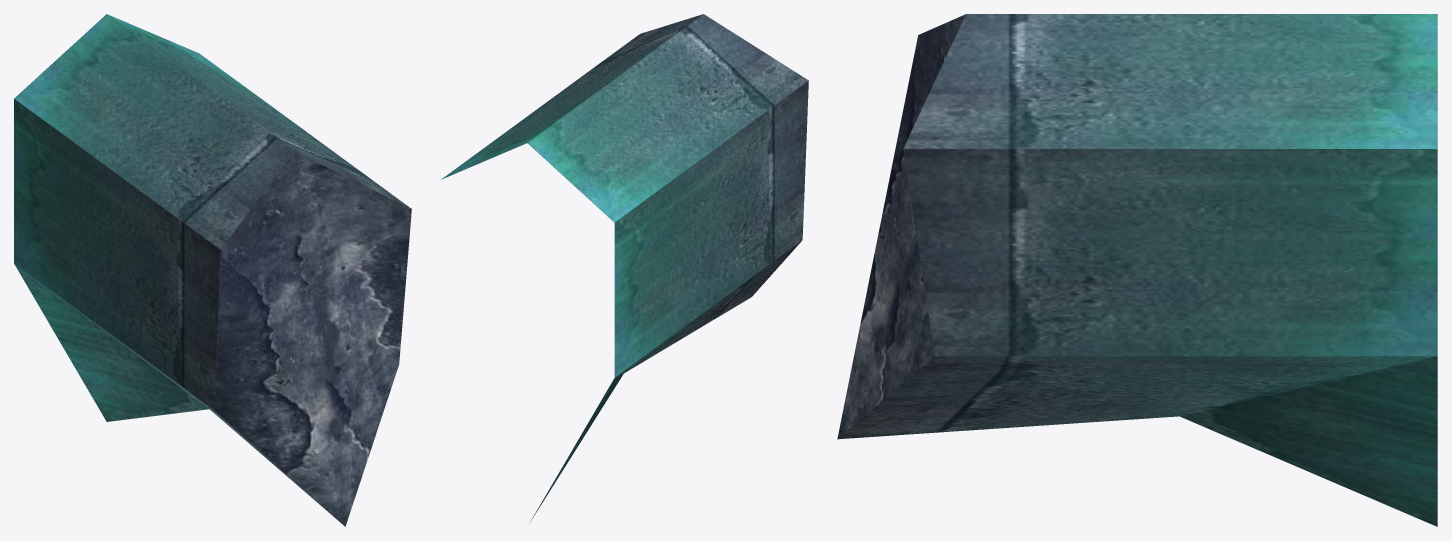
3 views of the same model, side by side, from view 1: azimuth 30°, elevation 25°; view 2: azimuth 150°, elevation 25°; view 3: azimuth 270°, elevation 25° (orthographic). The views are drawn at different scales.
Visible parts, largest first — view 1: model_Object46; view 2: model_Object46; view 3: model_Object46.
Boxes of the visible parts, <box> form: model_Object46: <box>14,14,411,526</box>; model_Object46: <box>441,14,808,521</box>; model_Object46: <box>837,14,1437,526</box>.
Size of the model in its own units: 1.52 by 3.2 by 3.39.
Materials: 2 (2 with a texture image).
